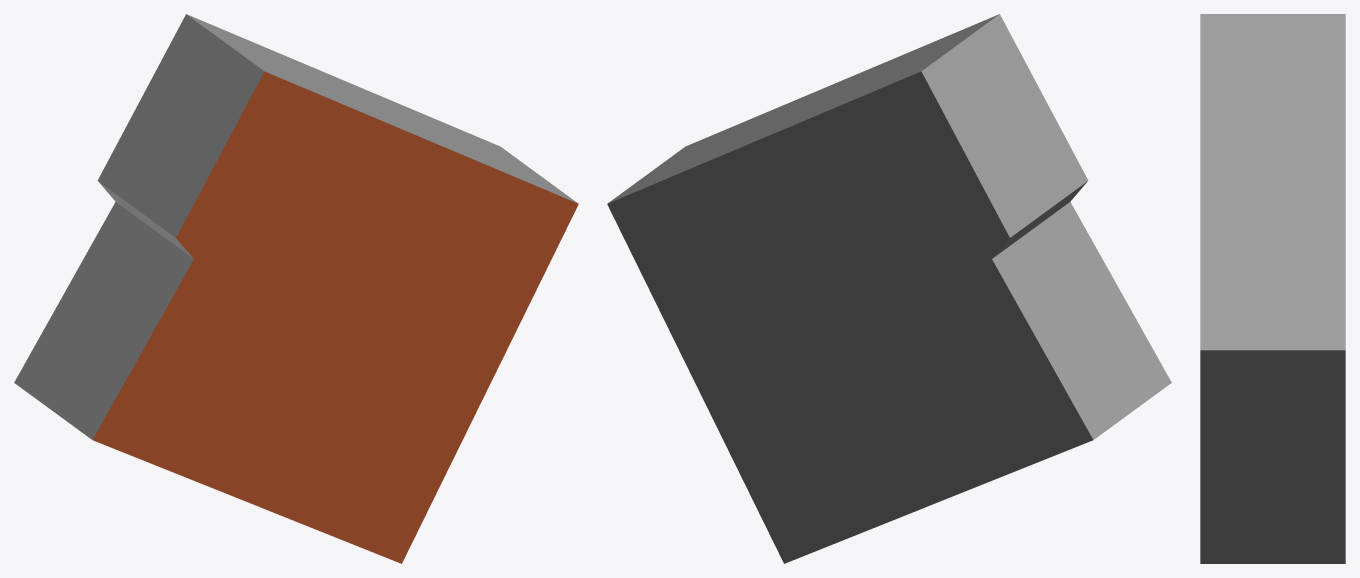
Rendered from construction_5840_assumed_A_Casa_h6m.obj.
3 views of the same model, side by side, from view 1: azimuth 30°, elevation 25°; view 2: azimuth 150°, elevation 25°; view 3: azimuth 270°, elevation 25° (orthographic). The views are drawn at different scales.
Visible parts, largest first — view 1: construction_5840_assumed_A_Casa; view 2: construction_5840_assumed_A_Casa; view 3: construction_5840_assumed_A_Casa.
Boxes of the visible parts, left/top/right/bottom form: construction_5840_assumed_A_Casa: left=14, top=14, right=578, bottom=563; construction_5840_assumed_A_Casa: left=607, top=14, right=1171, bottom=563; construction_5840_assumed_A_Casa: left=1200, top=14, right=1345, bottom=563.
Bounding box in the file's own units: 21.49 × 22.21 × 6.
